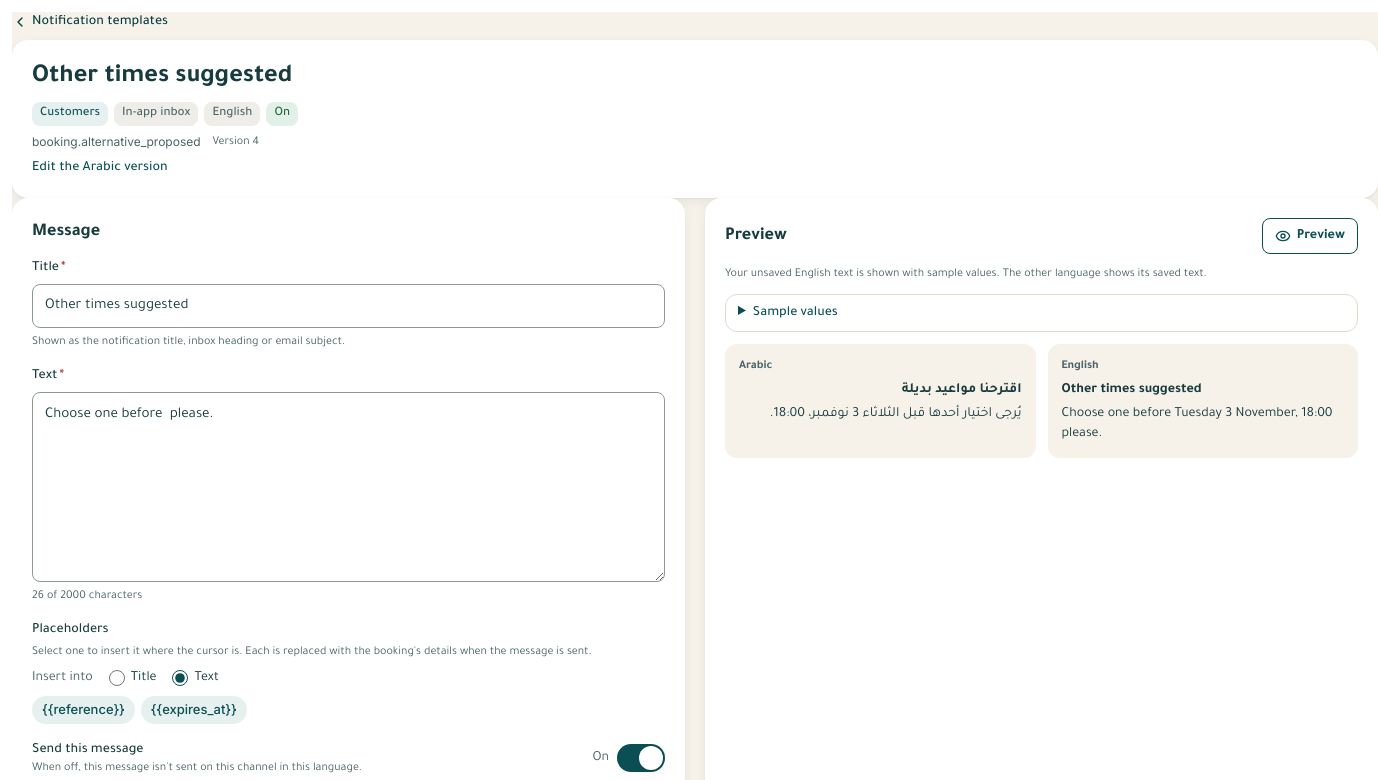
it: TemplateEditorScreen › inserts a placeholder chip where the caret is, in the field that had focus
The image size is (1378, 780).
Click the text box labelled "Text*".
click(348, 487)  # box [32,392,665,582]
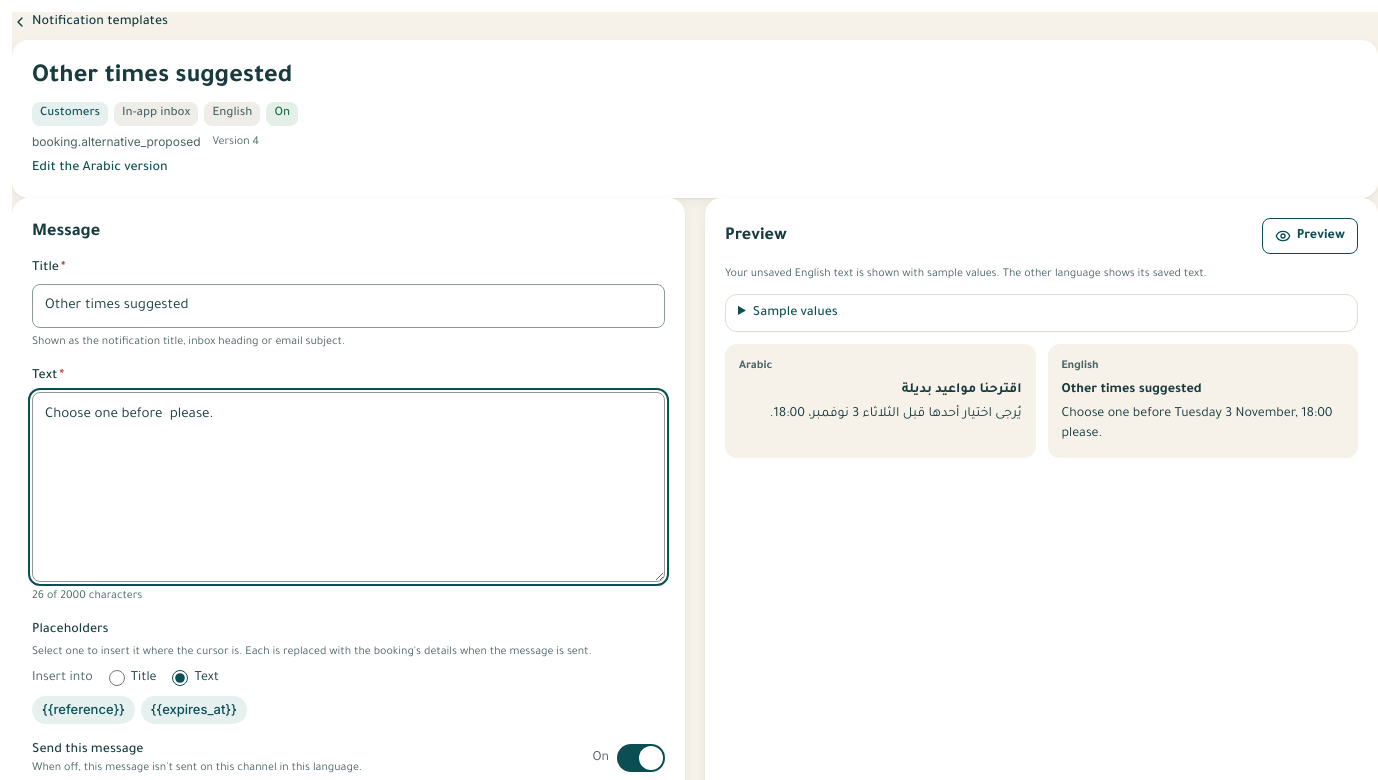
Click the button with aria-label "Insert {{expires_at}}: When the suggested times expire".
click(194, 710)  # box [141,696,247,724]
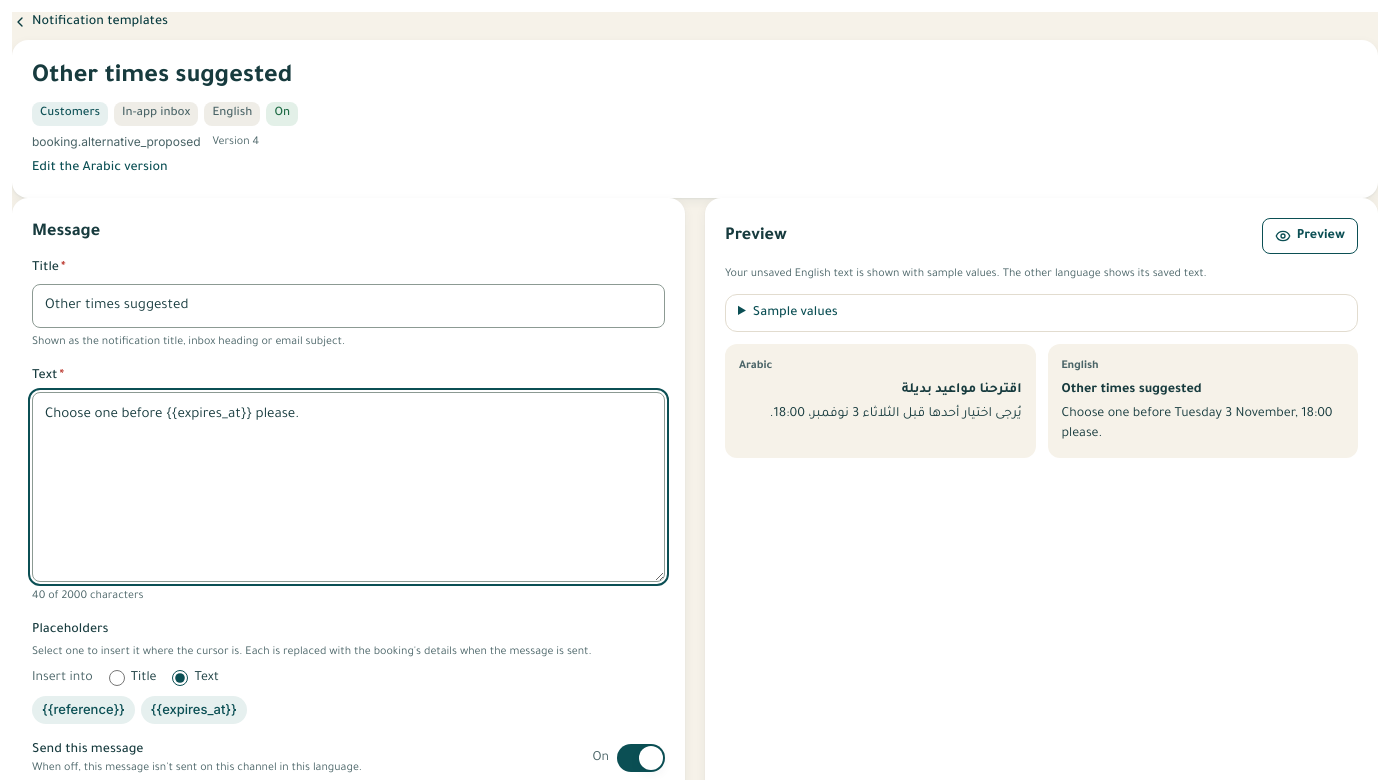
Expected: the text box labelled "Text*" holds "Choose one before {{expires_at}} please.", [32,392,665,582]
Click the field labelled "Title*".
click(348, 306)  # box [32,284,665,328]
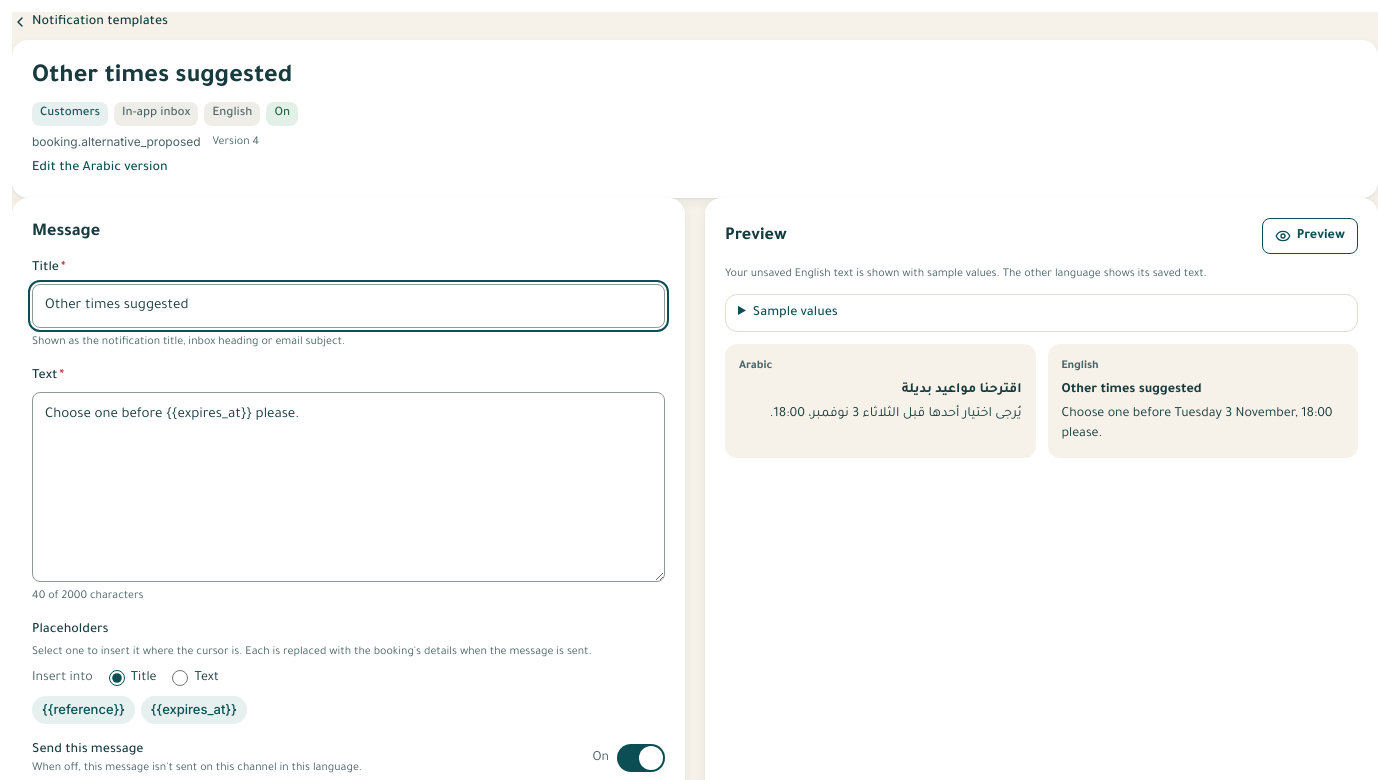
Click the button with aria-label "Insert {{reference}}: Booking reference (TRB-…)".
click(83, 710)  # box [32,696,135,724]
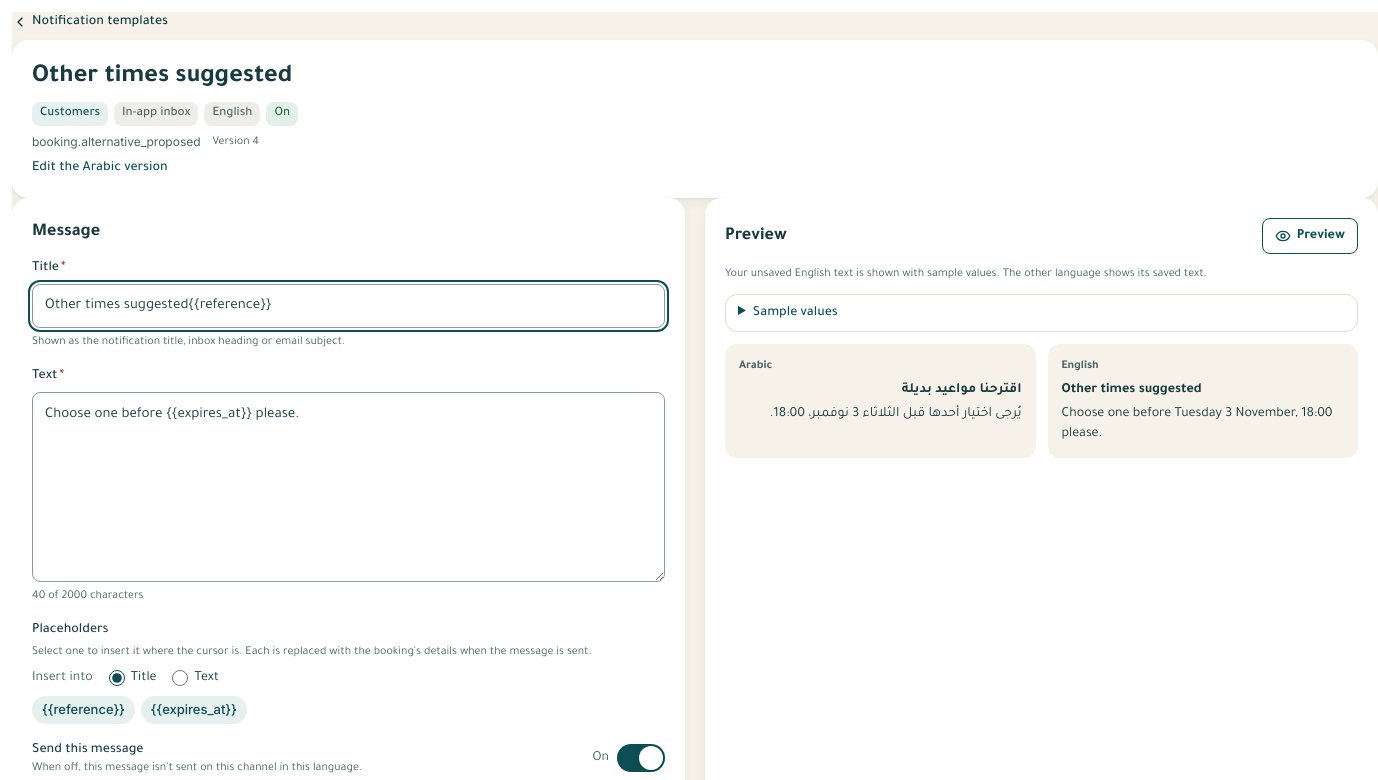
Expected: the field labelled "Title*" holds "Other times suggested{{reference}}", [32,284,665,328]
